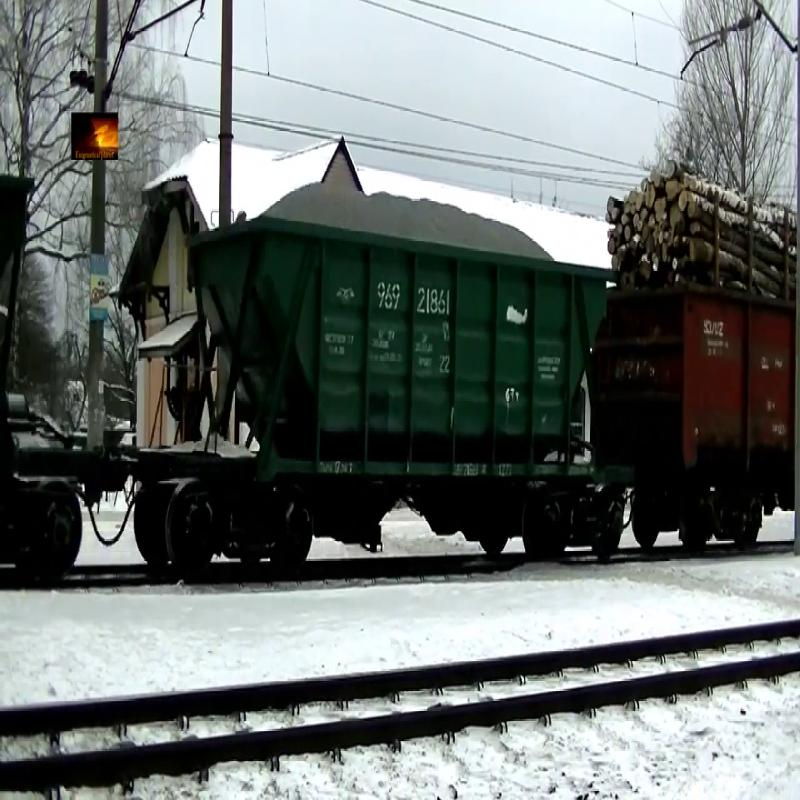train: (187, 169, 621, 571), (616, 173, 795, 573)
